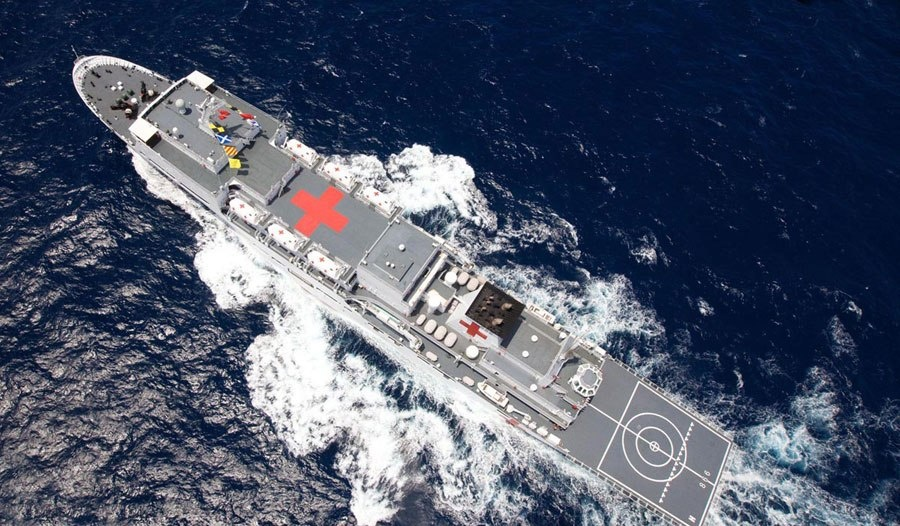warship: (68, 39, 736, 526)
